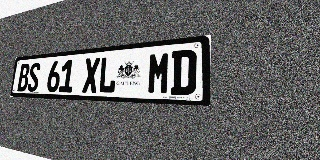1: (58, 59, 75, 93)
6: (46, 61, 62, 92)
B: (17, 63, 30, 92)
D: (170, 49, 197, 95)
L: (98, 56, 117, 93)
M: (147, 51, 171, 95)
S: (27, 62, 41, 92)
X: (82, 57, 100, 93)
